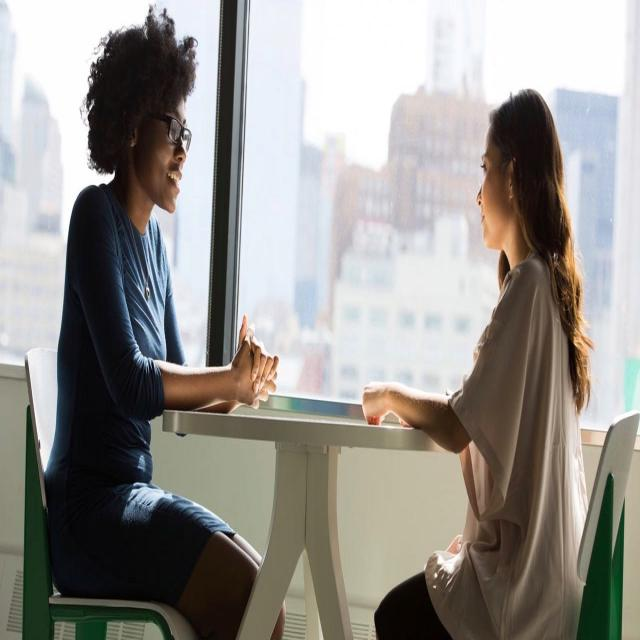adult: (45, 23, 279, 640), (376, 84, 594, 640)
